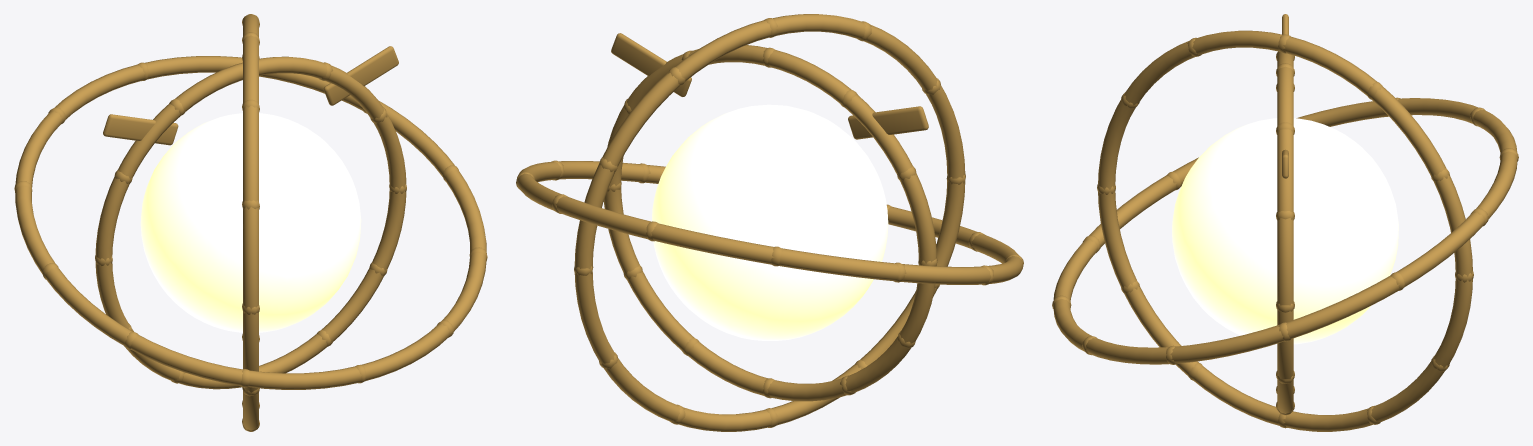
File: pip.glb
3 views of the same model, side by side, from view 1: azimuth 30°, elevation 25°; view 2: azimuth 150°, elevation 25°; view 3: azimuth 270°, elevation 25° (orthographic). The views are drawn at different scales.
Parts seen in each view (by area): view 1: Core, Ring_2, Ring_0, Ring_1, FinMesh_L, FinMesh_R; view 2: Core, Ring_1, Ring_0, Ring_2, FinMesh_R, FinMesh_L; view 3: Core, Ring_1, Ring_2, Ring_0.
Boxes of the visible parts, x1,y1,x2,y2 form: Core: (140,113,361,332); Ring_2: (14,56,487,389); Ring_0: (95,56,406,389); Ring_1: (242,14,259,431); FinMesh_L: (323,46,398,105); FinMesh_R: (103,114,178,145); Core: (652,104,888,340); Ring_1: (574,14,965,431); Ring_0: (603,45,937,401); Ring_2: (516,160,1023,285); FinMesh_R: (848,106,928,139); FinMesh_L: (611,33,691,96); Core: (1172,118,1398,344); Ring_1: (1097,30,1473,431); Ring_2: (1052,97,1518,364); Ring_0: (1276,51,1294,415).
Size of the model in its own units: 0.283 by 0.247 by 0.2666.
